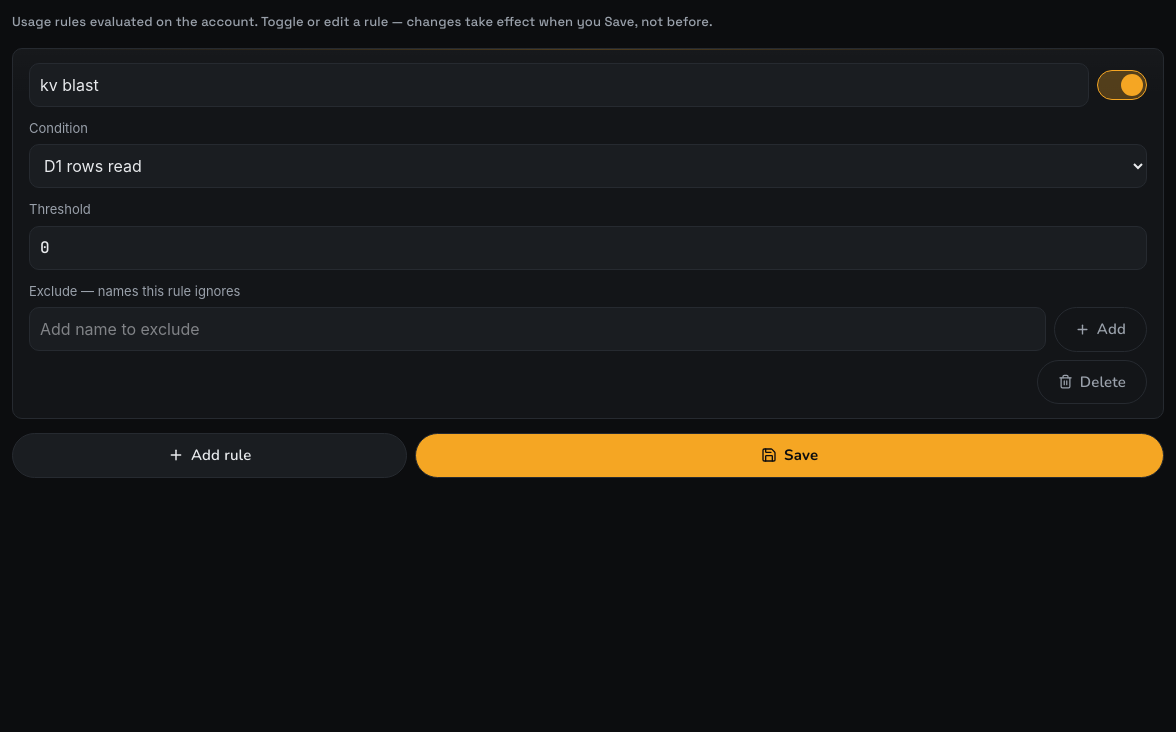
Test: RulesView (P-06) › Save PUTs the whole draft set in the wire shape and adopts the echo
Expected: the element with class "cf-rule" is shown, top-left (12, 48), bottom-right (1164, 419)
Replace the text in the number field named "Rule 1 threshold" with "1500000000" at x=588, y=248, box top-left (29, 226), bottom-right (1147, 270)
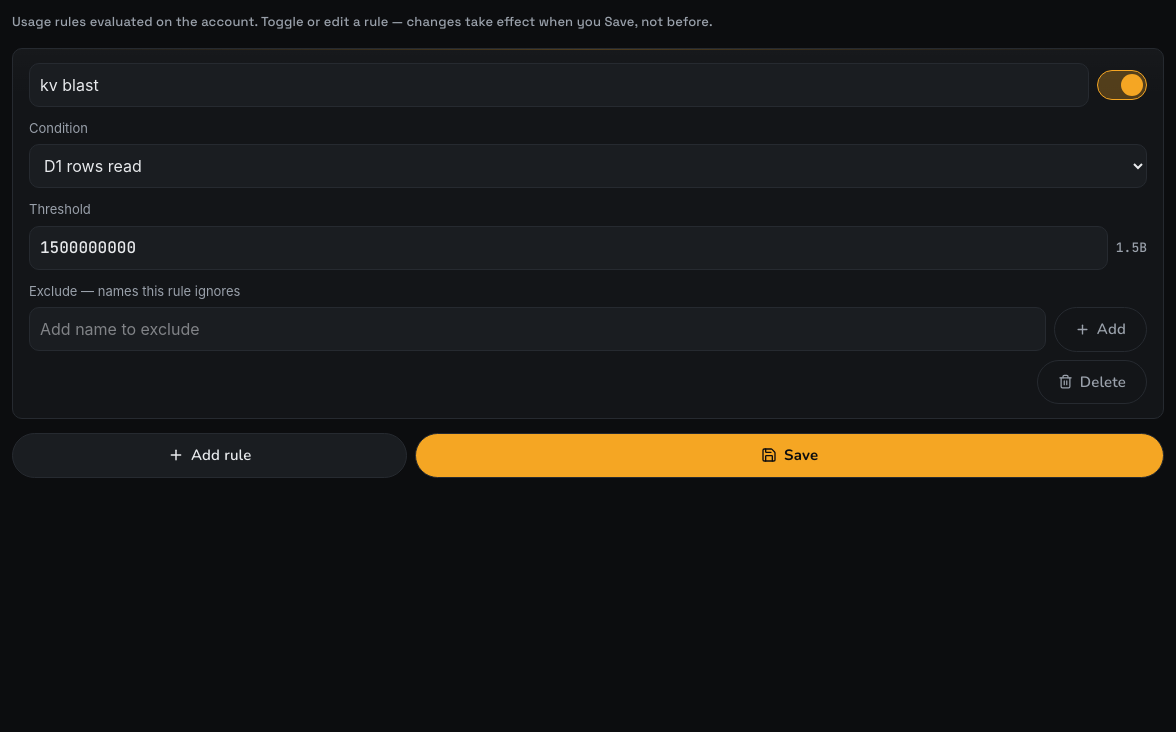
Type "cf-trace" into the field with placeholder "Add name to exclude" at x=537, y=329, box top-left (29, 307), bottom-right (1046, 351)
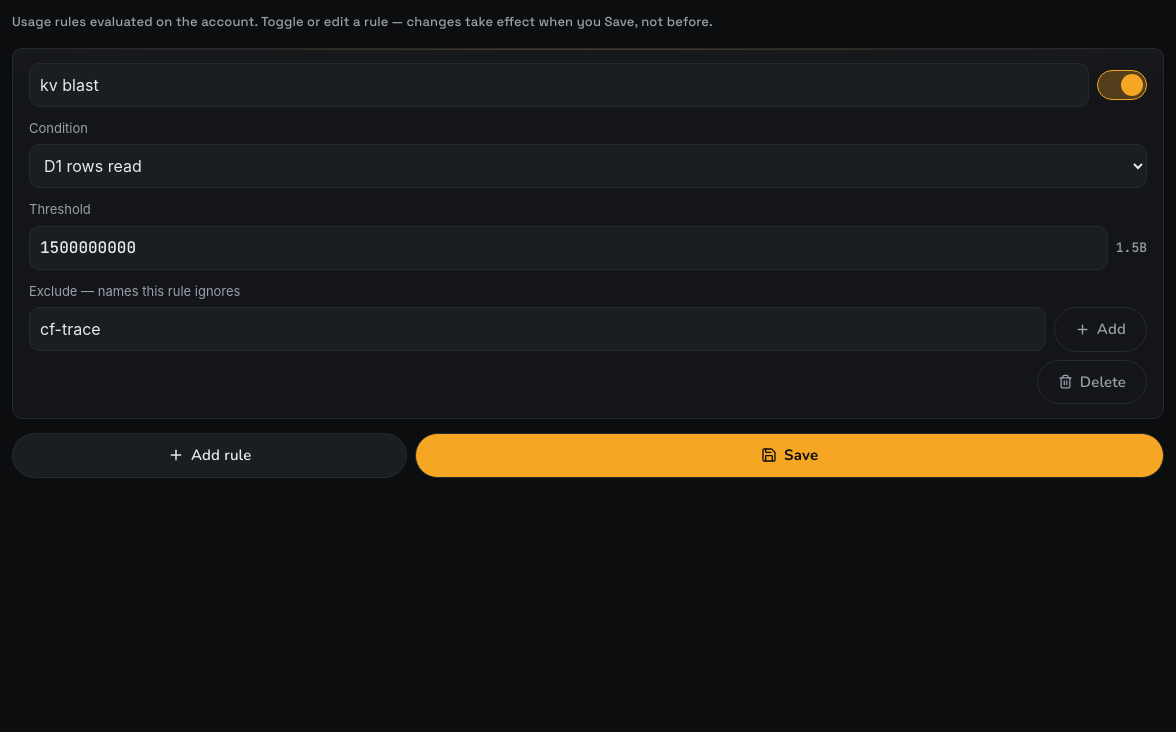
Click the button with class "cf-btn" showing "Add" at x=1100, y=329, box top-left (1054, 307), bottom-right (1147, 352)
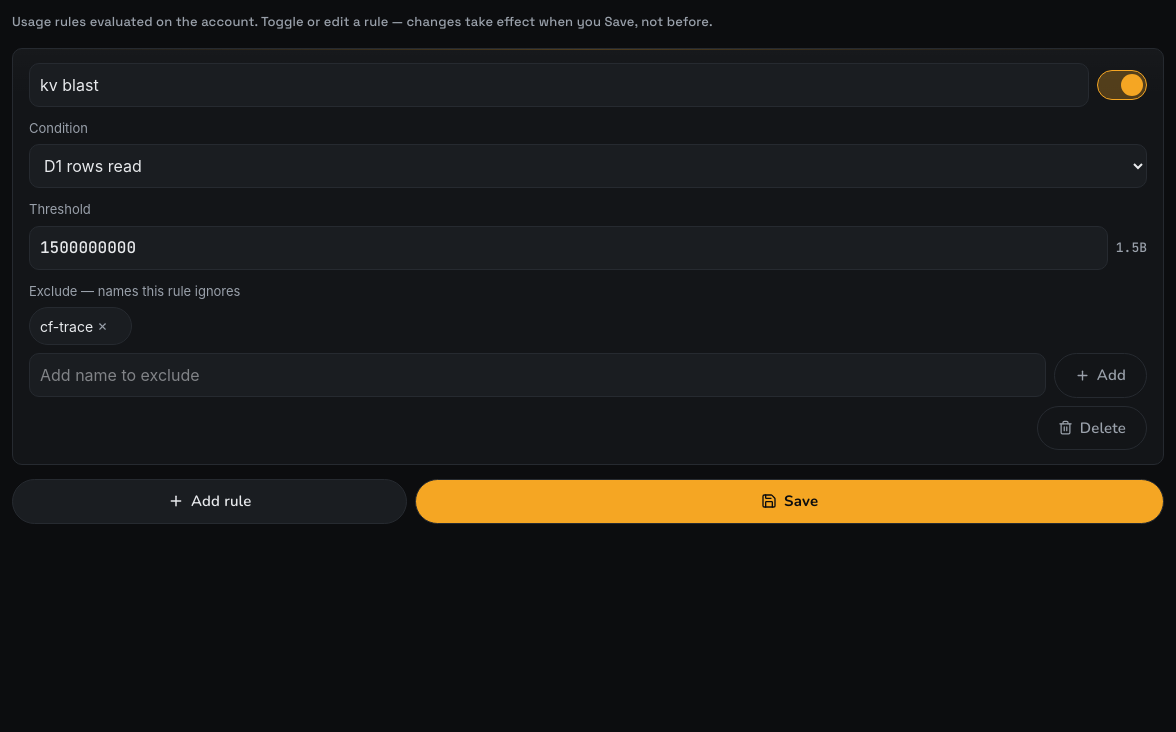
Expected: the text with class "cf-chip-value" reads "cf-trace", top-left (40, 318), bottom-right (93, 334)
Click the button with class "cf-btn-primary" at x=790, y=501, box top-left (415, 479), bottom-right (1164, 524)
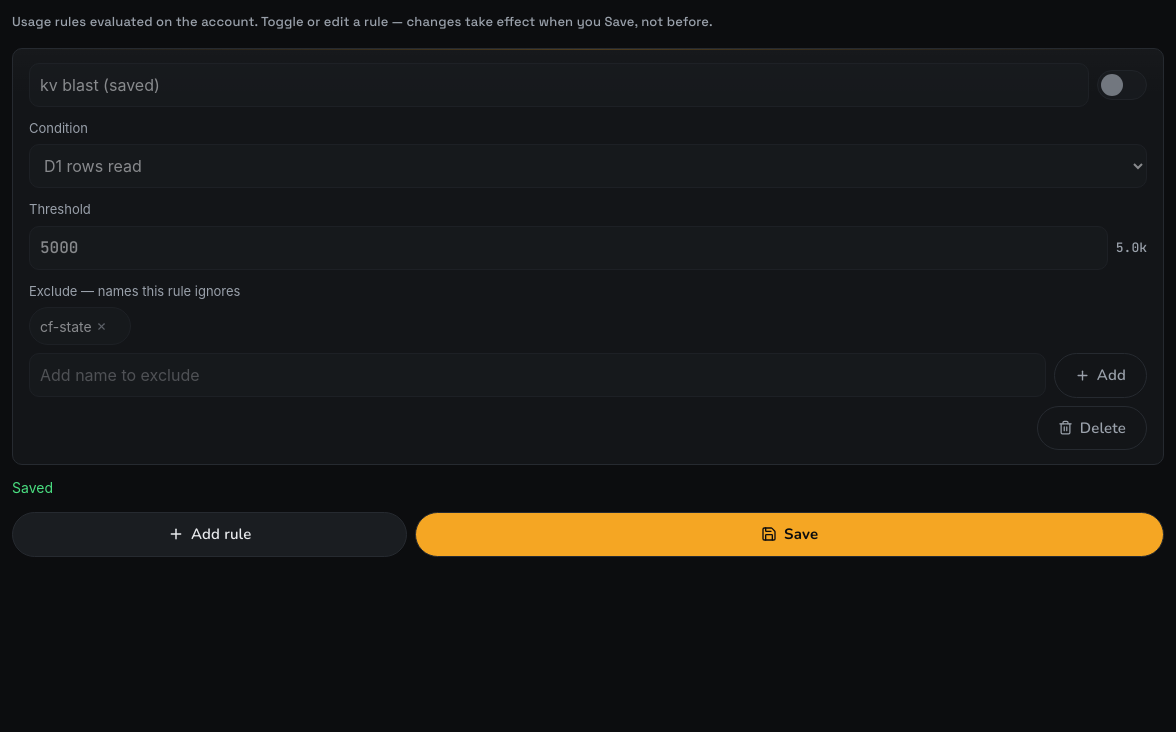
Expected: the text with class "cf-save-status" reads "Saved", top-left (12, 479), bottom-right (53, 496)
Expected: the text with class "cf-chip-value" reads "cf-state", top-left (40, 318), bottom-right (92, 334)
